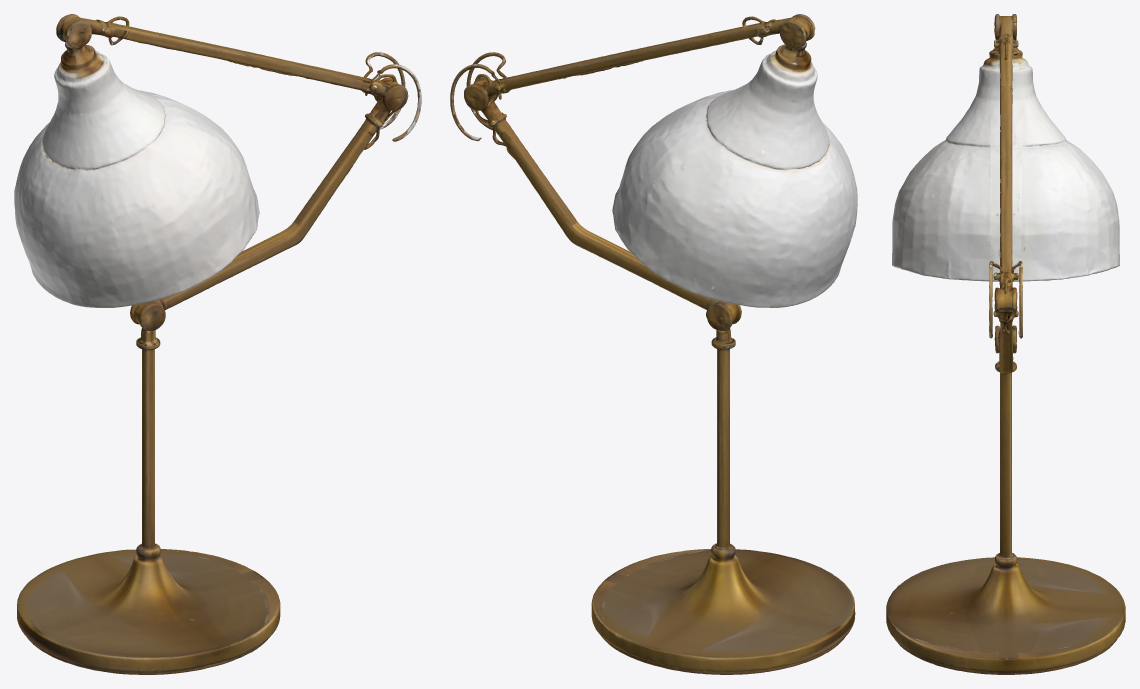
Rendered from Lamp.glb.
3 views of the same model, side by side, from view 1: azimuth 30°, elevation 25°; view 2: azimuth 150°, elevation 25°; view 3: azimuth 270°, elevation 25° (orthographic). The views are drawn at different scales.
Bounding box in the file's own units: 1.22 × 1.9 × 0.7172.
1 material, 1 textured.
